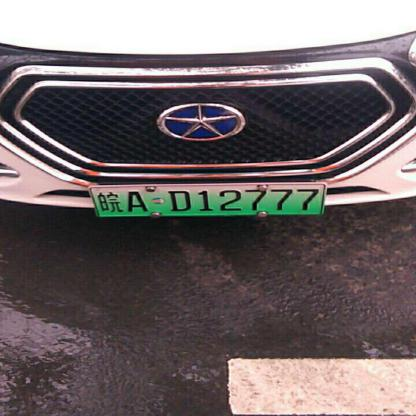lp: (90, 184, 325, 215)
